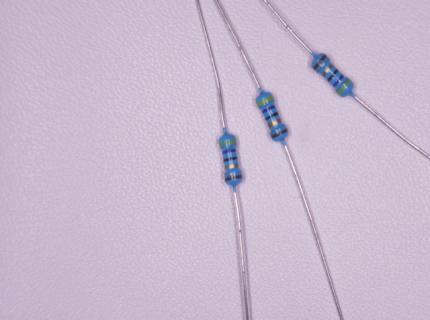Black band: (327, 69, 339, 82), (265, 111, 279, 121), (223, 156, 238, 162)
Brown band: (312, 54, 327, 70), (271, 128, 289, 139), (225, 174, 243, 182)
Gold band: (322, 63, 333, 77), (268, 118, 282, 128), (224, 164, 239, 170)
Violet band: (332, 74, 345, 87), (261, 105, 276, 114), (222, 148, 236, 155)
Yellow band: (336, 79, 353, 95), (256, 96, 275, 107), (219, 139, 237, 146)
